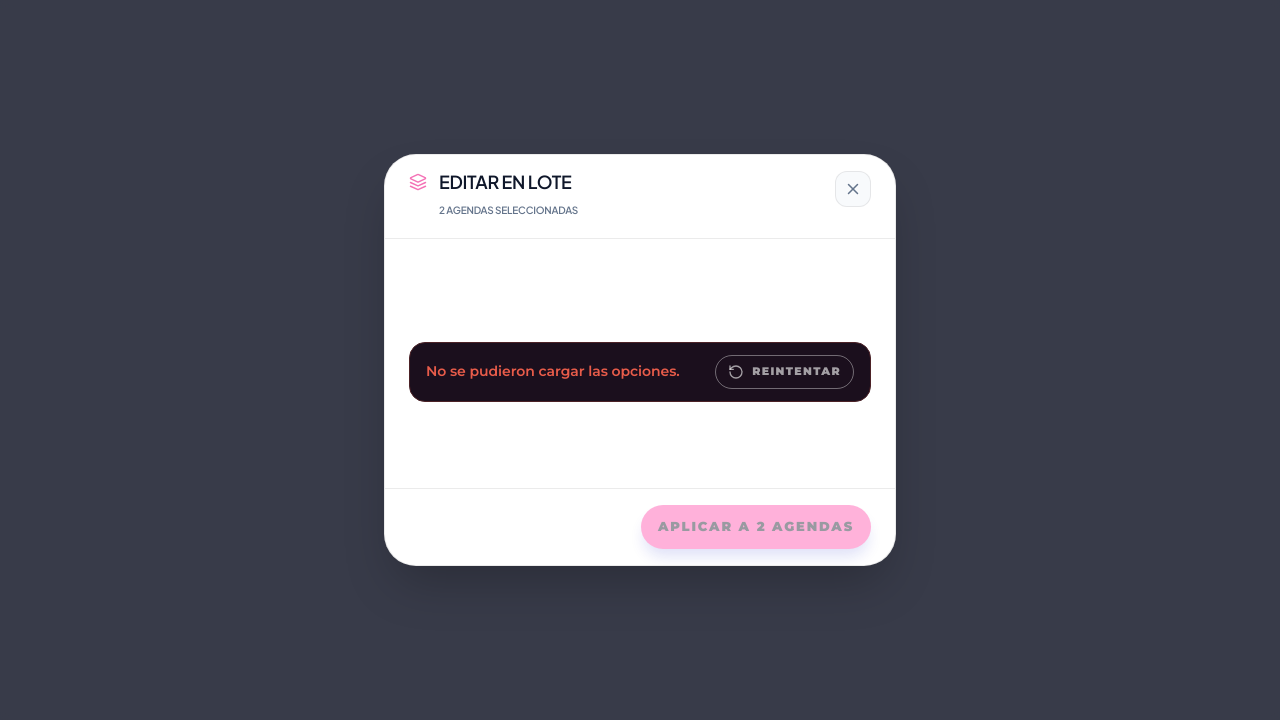
Panel «Editar en lote» › si no llegan las opciones se puede reintentar
Click the button "Reintentar". click: (785, 372)
box: 715,355 -> 854,389
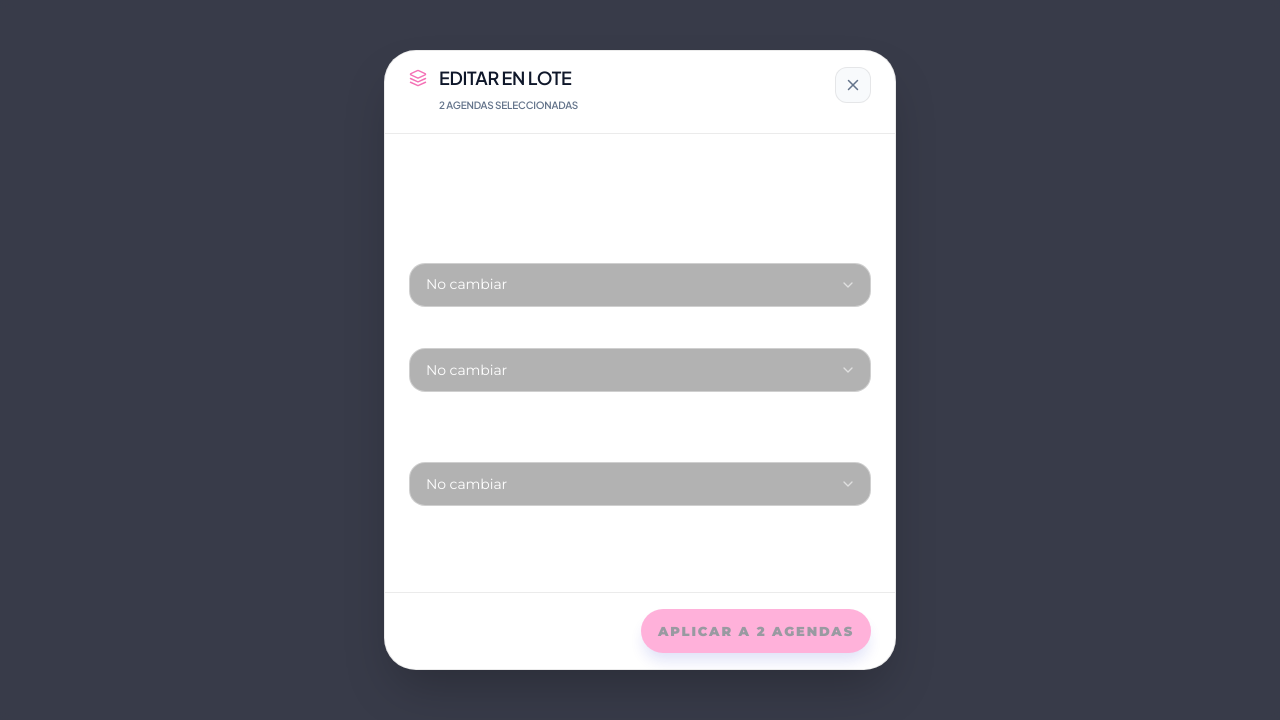
Expected: the dropdown labelled "Closer" is shown, 426,264 -> 854,306
